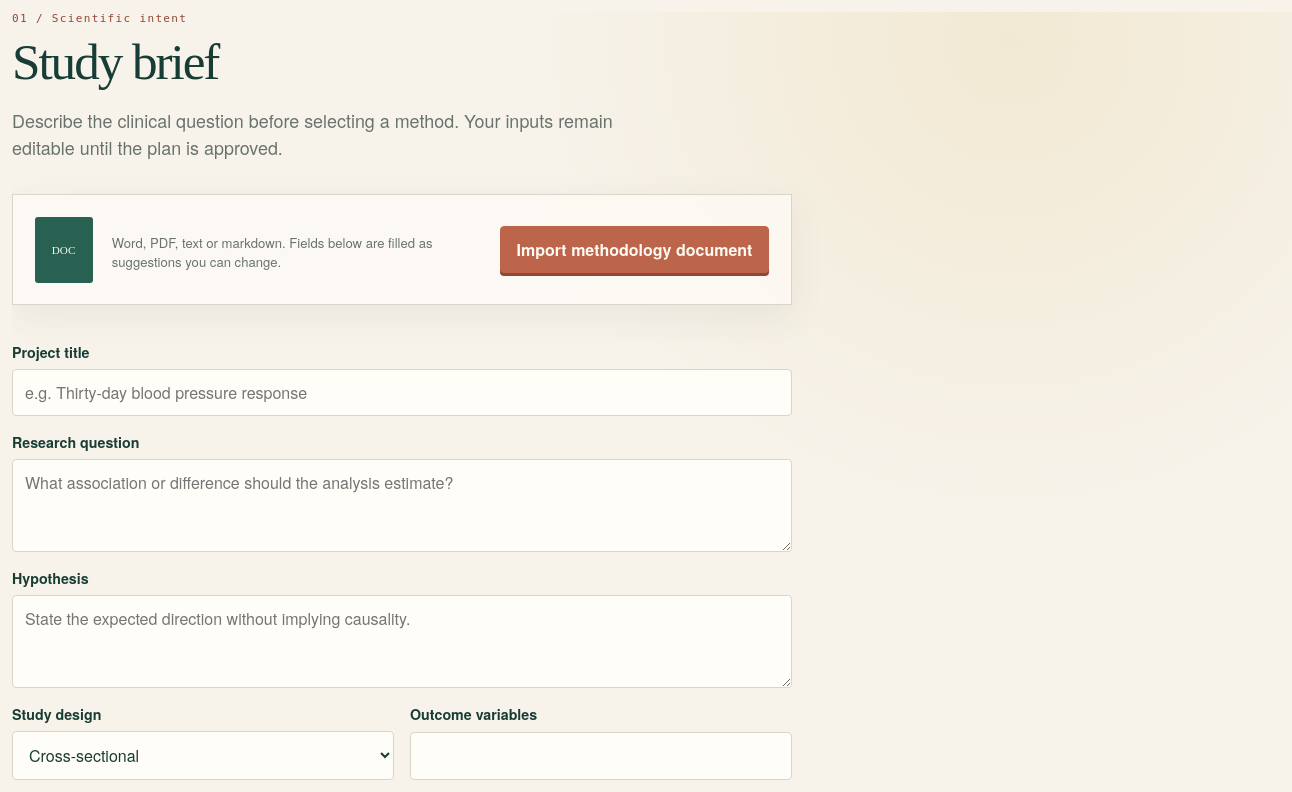
Test: falls back to a generic, safe message for an error code it does not recognize
The image size is (1292, 792).
Click the button "Import methodology document".
click(634, 250)  # box [500, 226, 769, 273]
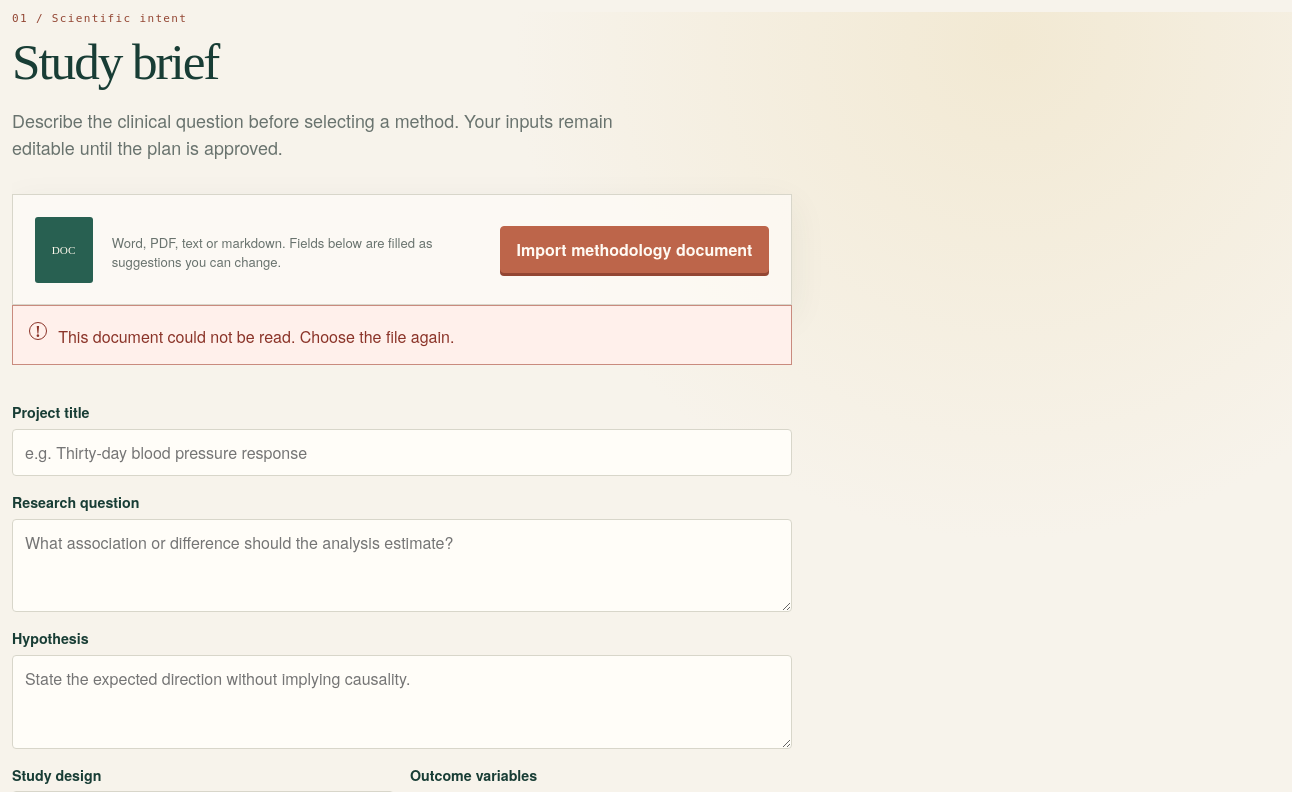
Expected: the message does not show "some_future_code", [12, 305, 792, 366]
Result: the message "! This document could not be read. Choose the file again." is shown at [12, 305, 792, 366]
